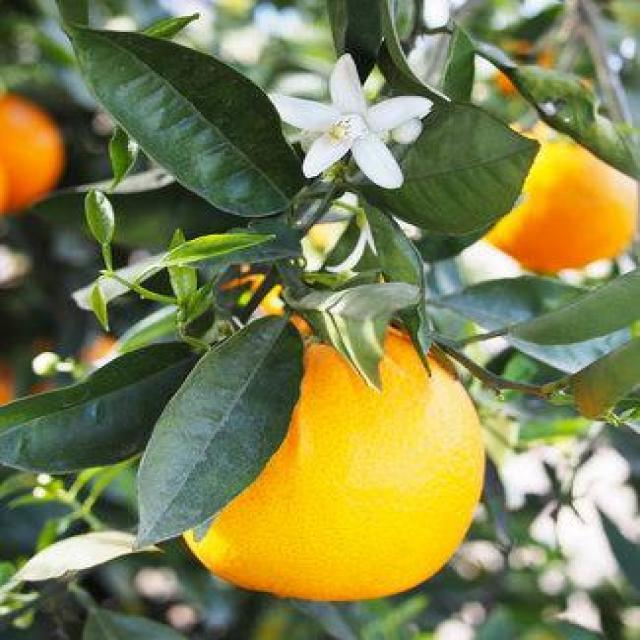Bunga: (268, 55, 418, 190), (389, 116, 422, 142)
Jeruk Sudah Matang: (183, 312, 483, 602), (488, 140, 638, 268)
